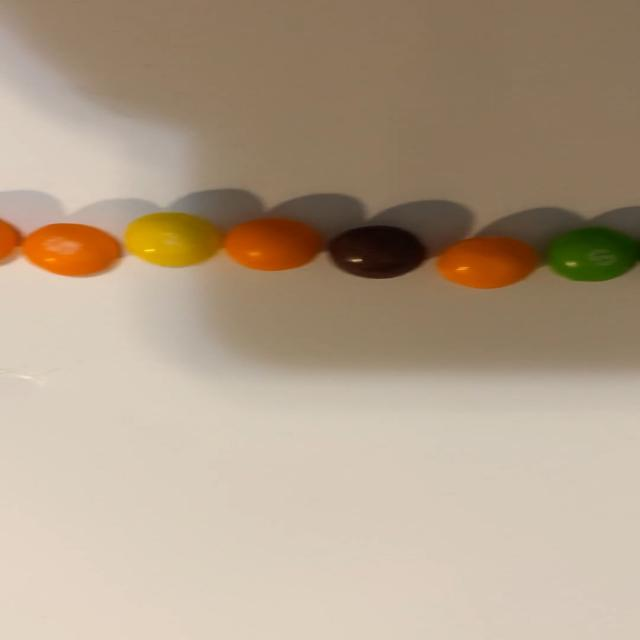smartie: (437, 236, 539, 288), (123, 212, 220, 266), (20, 223, 118, 276), (328, 225, 425, 278), (228, 218, 324, 271), (549, 227, 639, 281)
